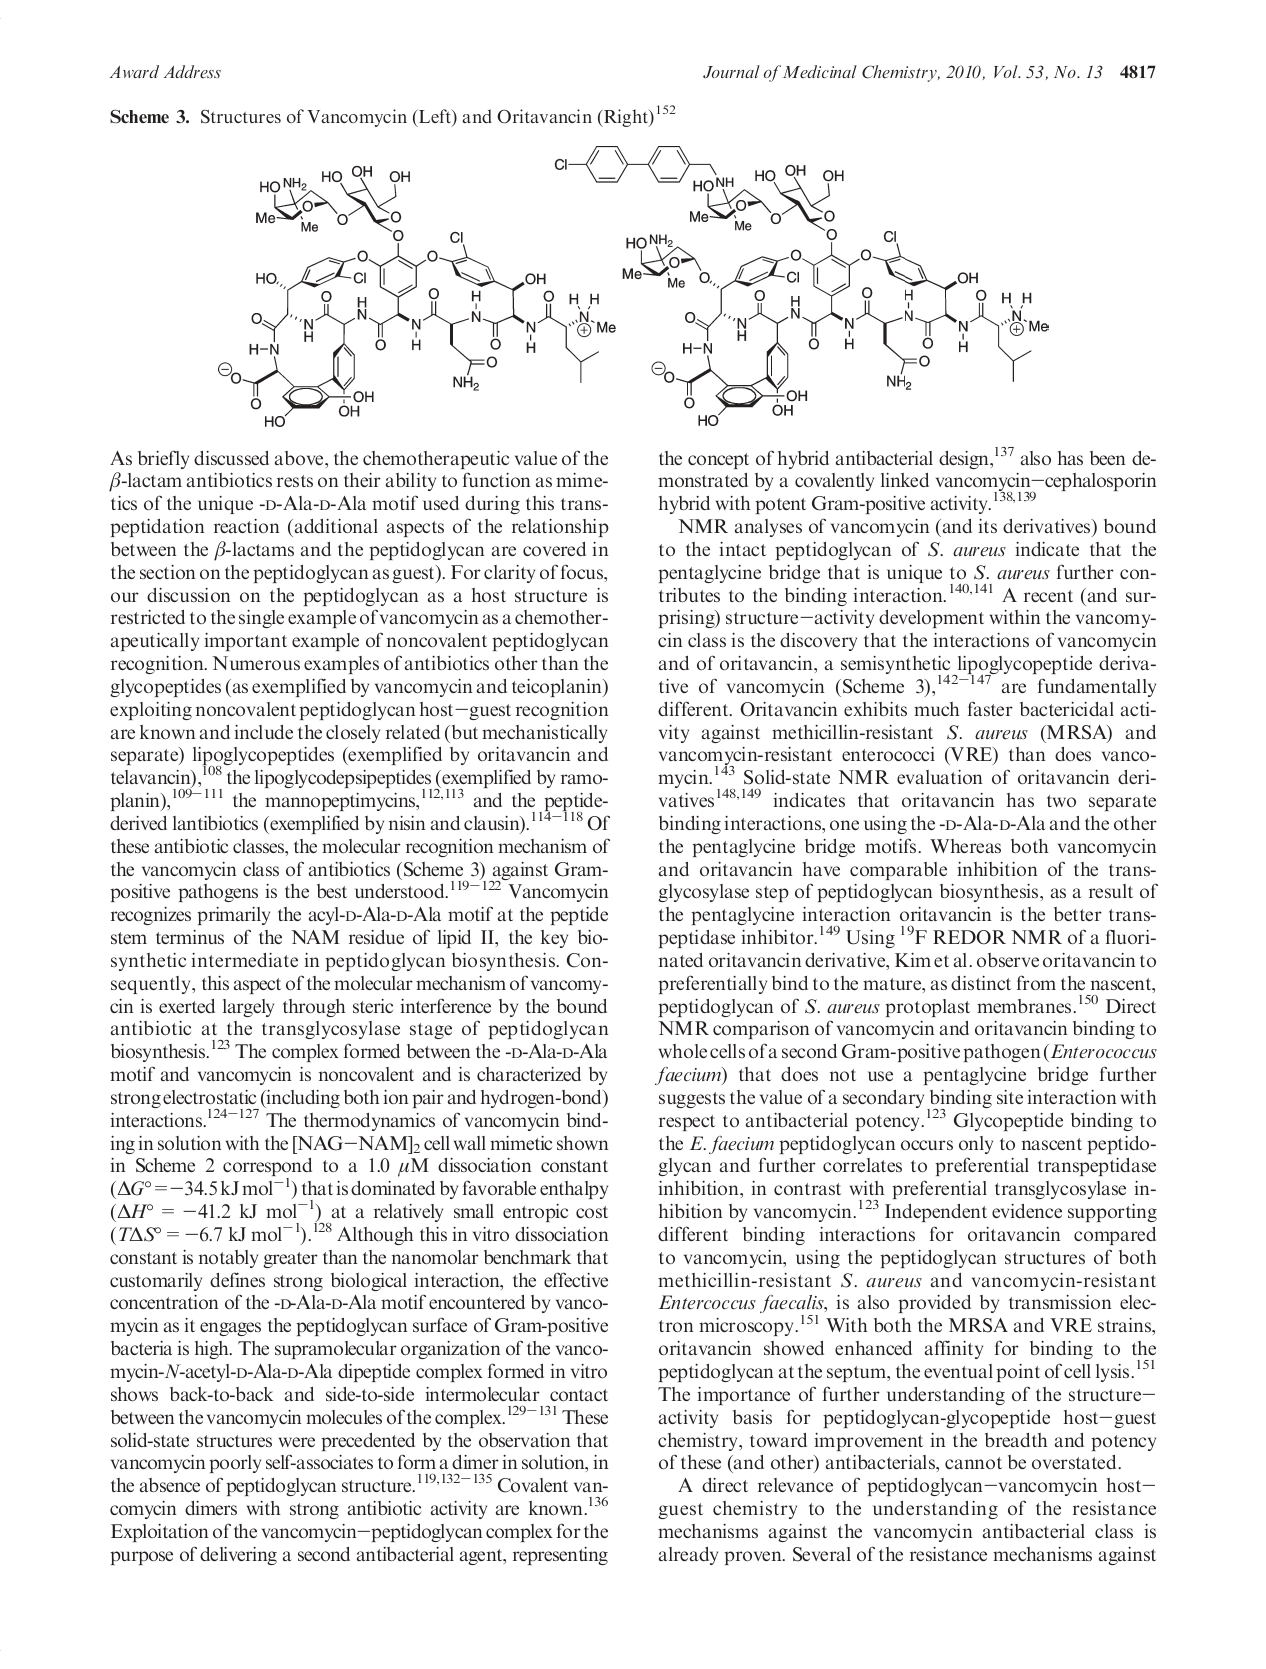exist_molecular: (537, 138, 1047, 432), (213, 152, 622, 432)
